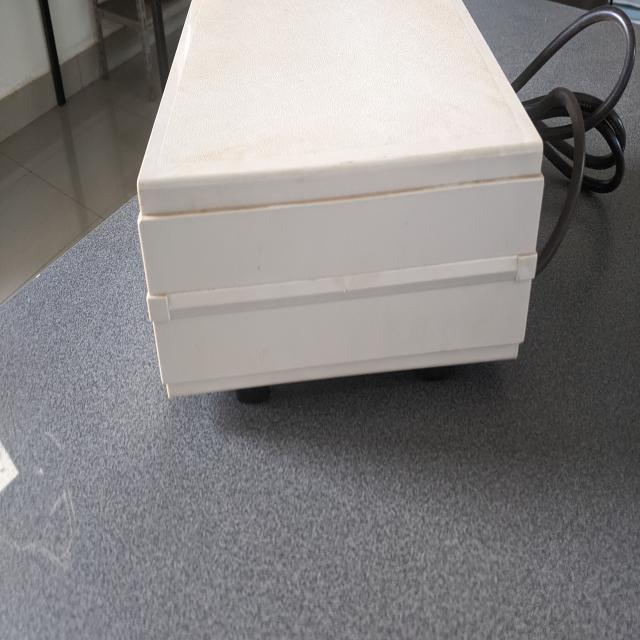Freefall Digital Timer: (131, 5, 551, 424)
